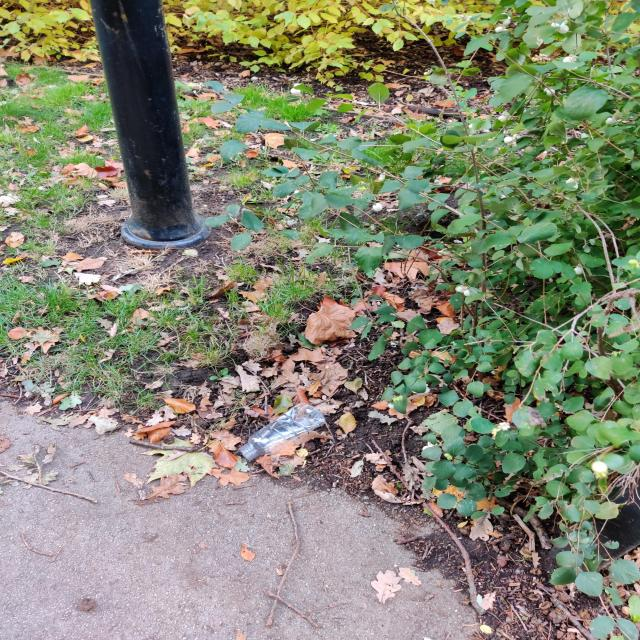litter: (228, 397, 364, 488)
